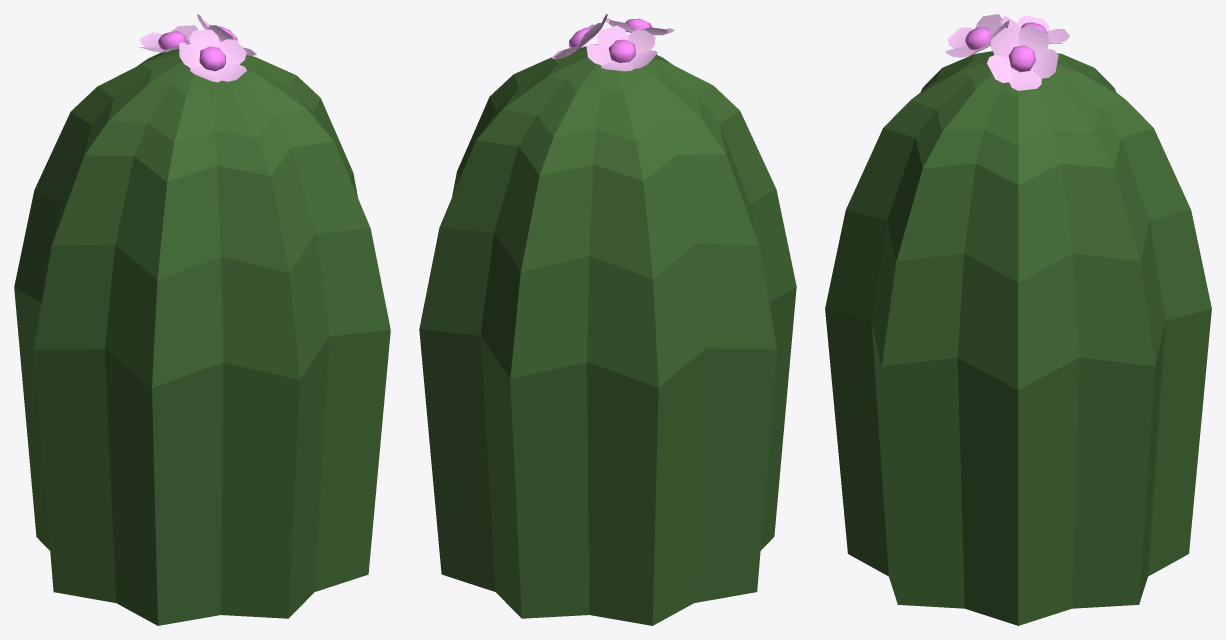
Rendered from Cactus_23_A.fbx.
3 views of the same model, side by side, from view 1: azimuth 30°, elevation 25°; view 2: azimuth 150°, elevation 25°; view 3: azimuth 270°, elevation 25° (orthographic).
Parts seen in each view (by area): view 1: Cactus_23_A; view 2: Cactus_23_A; view 3: Cactus_23_A.
Part boxes in pixels (<box>): Cactus_23_A: <box>14,14,390,625</box>; Cactus_23_A: <box>419,14,796,625</box>; Cactus_23_A: <box>825,14,1211,625</box>.
Bounding box in the file's own units: 105 × 158 × 105.
